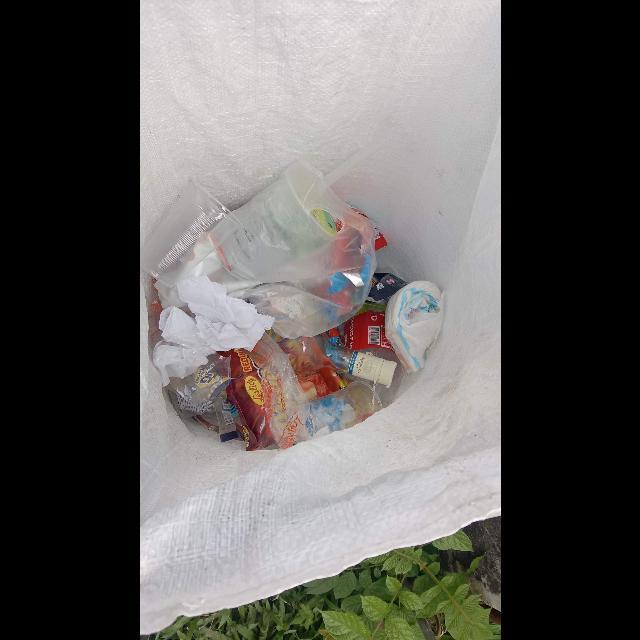glass: (266, 329, 396, 386)
paper: (176, 275, 274, 352), (157, 306, 215, 355), (152, 340, 209, 386)
plastic: (179, 160, 376, 337), (139, 177, 241, 288), (303, 381, 382, 437)
wrapper: (217, 350, 275, 452), (364, 272, 408, 303)
